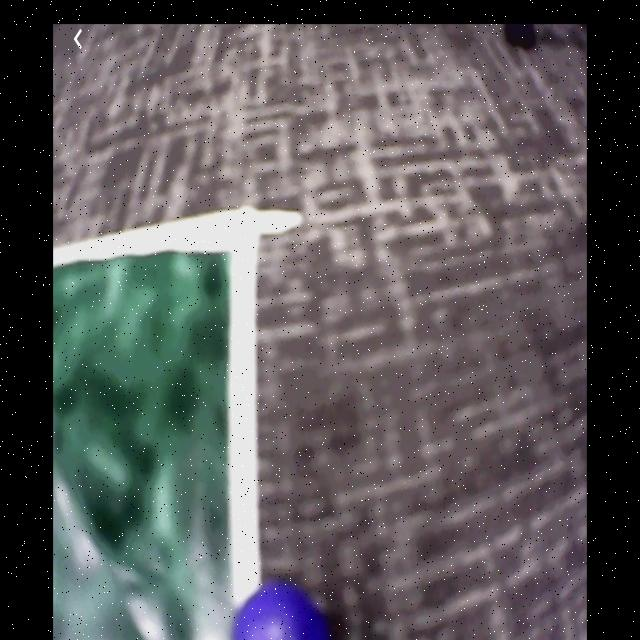ball: (231, 583, 326, 640)
